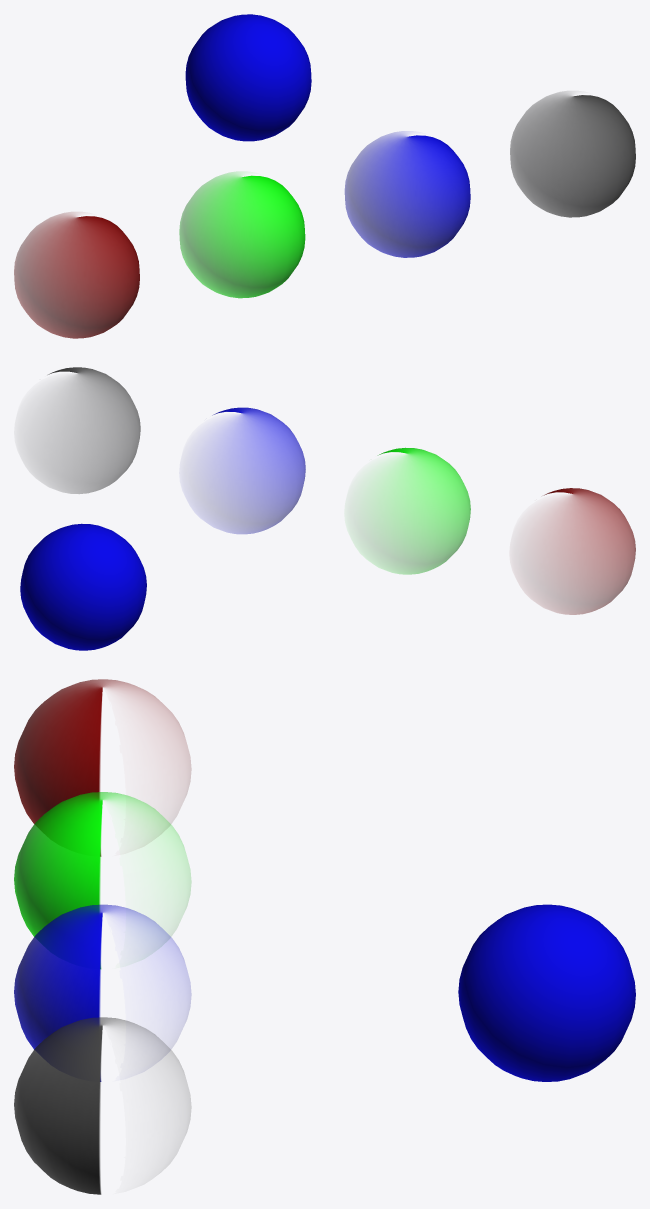
Rendered from TransparencyMode_Blend.gltf.
3 renders of one model, top to bottom at view 1: azimuth 30°, elevation 25°; view 2: azimuth 150°, elevation 25°; view 3: azimuth 270°, elevation 25°, orthographic. The views are drawn at different scales.
Parts seen in each view (by area): view 1: pSphere5, pSphere3, pSphere1, pSphere2, pSphere4; view 2: pSphere5, pSphere1, pSphere2, pSphere4, pSphere3; view 3: pSphere5, pSphere4, pSphere2, pSphere1, pSphere3.
Part boxes in pixels (x1,y1,x2,y2): pSphere5: (185,14,311,141); pSphere3: (345,131,470,257); pSphere1: (14,212,139,338); pSphere2: (179,172,305,298); pSphere4: (510,91,635,217); pSphere5: (20,523,146,650); pSphere1: (523,488,635,614); pSphere2: (358,447,470,574); pSphere4: (28,367,140,493); pSphere3: (193,407,305,533); pSphere5: (458,904,635,1081); pSphere4: (14,1017,190,1194); pSphere2: (14,792,190,969); pSphere1: (14,679,190,856); pSphere3: (14,904,190,1081).
Bounding box in the file's own units: 11 × 2 × 7.
5 materials, 5 textured.
